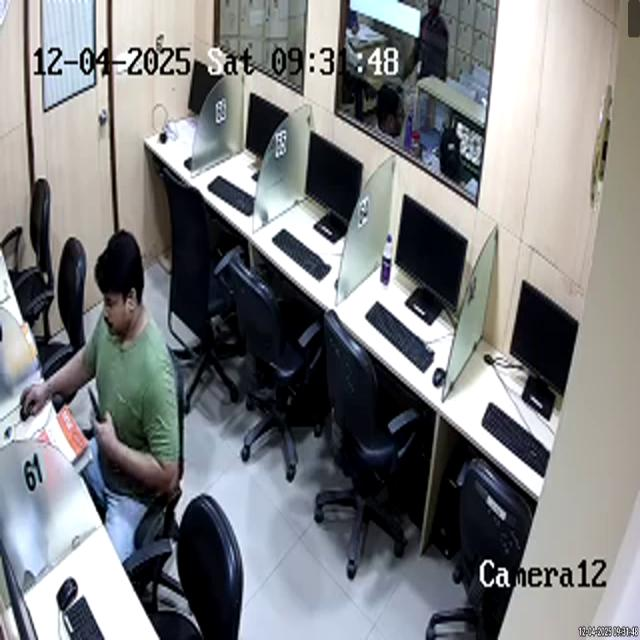phone: (85, 380, 110, 427)
